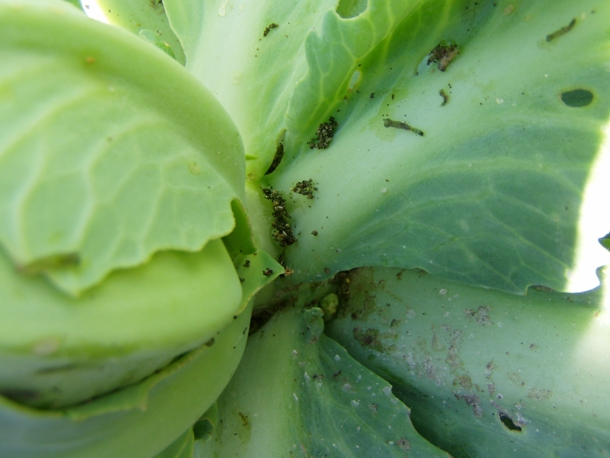cabbage: (0, 2, 286, 456)
